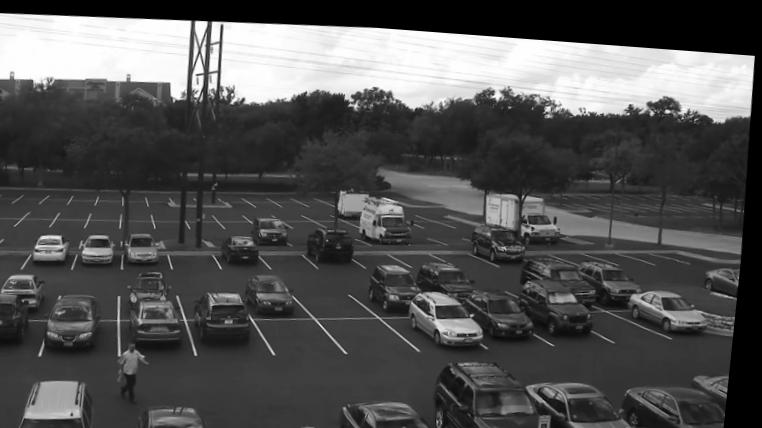empty: (329, 312, 419, 352), (226, 401, 331, 428), (596, 298, 674, 334), (303, 273, 382, 308), (261, 314, 340, 348), (174, 246, 230, 270), (396, 242, 450, 262), (188, 274, 232, 297), (269, 247, 319, 266), (72, 276, 121, 295), (442, 243, 500, 258), (487, 265, 529, 284), (361, 241, 406, 258), (0, 250, 36, 268), (409, 208, 455, 222), (7, 230, 44, 246), (89, 217, 127, 231), (557, 243, 604, 254), (623, 242, 679, 251), (57, 216, 94, 229), (191, 218, 233, 228), (293, 225, 321, 240), (155, 218, 196, 228), (62, 206, 96, 218), (22, 216, 59, 227), (126, 217, 159, 229), (184, 206, 220, 217), (223, 190, 256, 202), (291, 216, 330, 226), (215, 204, 250, 215), (149, 192, 178, 205), (125, 193, 155, 205), (278, 203, 312, 213), (0, 191, 28, 203), (101, 192, 127, 204), (253, 192, 284, 202), (1, 205, 35, 214), (125, 208, 159, 217), (307, 203, 341, 212), (214, 229, 237, 242), (245, 205, 278, 214), (595, 246, 644, 252), (95, 207, 127, 216), (157, 207, 189, 216), (303, 192, 334, 201), (24, 193, 49, 204), (0, 216, 27, 226), (323, 214, 361, 221), (224, 216, 257, 224), (54, 226, 83, 235), (77, 193, 100, 204), (34, 207, 65, 215), (49, 194, 74, 203), (279, 194, 308, 201)
occupied: (433, 353, 566, 428), (531, 374, 652, 428), (629, 372, 733, 428), (405, 282, 491, 342), (524, 270, 599, 327), (24, 378, 109, 428), (334, 390, 445, 428), (468, 279, 545, 333), (196, 287, 264, 340), (634, 279, 714, 321), (51, 291, 106, 347), (136, 293, 191, 342), (477, 215, 534, 259), (363, 191, 416, 238), (586, 252, 643, 295), (374, 259, 427, 305), (421, 255, 481, 294), (0, 291, 41, 346), (252, 270, 306, 311), (146, 399, 214, 428), (528, 249, 596, 278), (311, 224, 359, 259), (7, 274, 51, 304), (132, 269, 171, 300), (226, 231, 263, 262), (38, 233, 74, 264), (258, 212, 295, 242), (711, 257, 745, 285), (132, 231, 164, 260), (87, 233, 119, 262)
